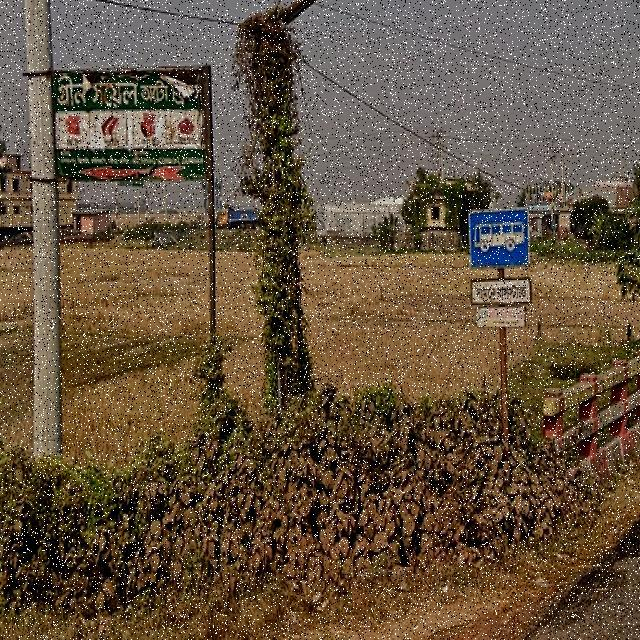Ahead-the-bus-station: (458, 191, 544, 338)
